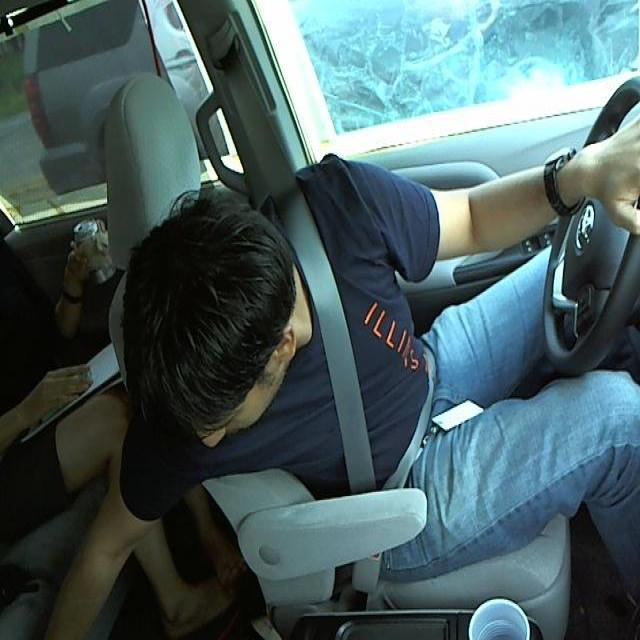seatbelt: (302, 253, 402, 512)
